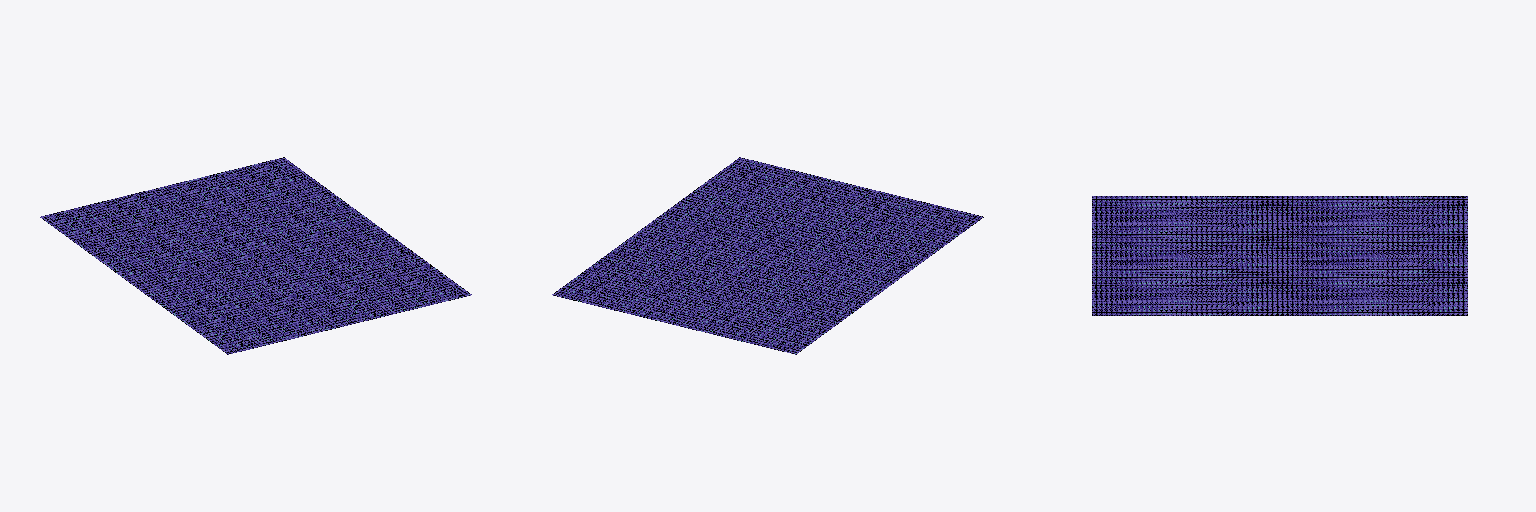
The picture shows the model from 3 angles: view 1: azimuth 30°, elevation 25°; view 2: azimuth 150°, elevation 25°; view 3: azimuth 270°, elevation 25°; orthographic projection.
Visible parts, largest first — view 1: Quad_0; view 2: Quad_0; view 3: Quad_0.
Boxes of the visible parts, x1=… form: Quad_0: x1=40, y1=157, x2=471, y2=354; Quad_0: x1=552, y1=157, x2=983, y2=354; Quad_0: x1=1092, y1=196, x2=1467, y2=315.
Size of the model in its own units: 41.62 by 0 by 55.53.
Materials: 1 (1 with a texture image).